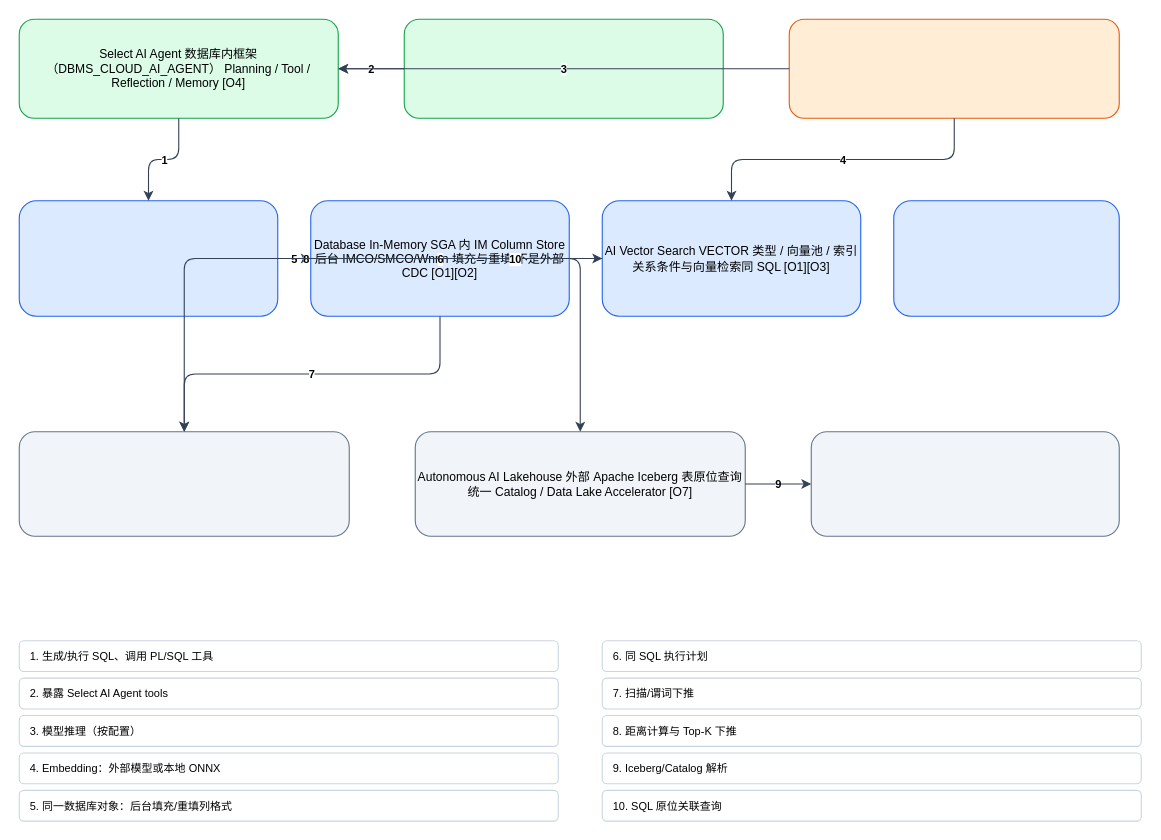
This 1161x840 diagram has some shape labels left out. Here are the shapes that lost their labels. From the top down, the centre of each, then its label:
At [563,68]: "Autonomous AI Database MCP Server 每数据库托管、多租户 MCP 服务 无需客户另建 MCP 基础设施 [O5]".
At [953,68]: "模型来源 外部 LLM Provider（可选） 或数据库内加载 ONNX Embedding [O4][O6]".
At [148,258]: "OLTP 行格式 Buffer Cache / ACID / SQL 适合点查与更新 [O1]".
At [1006,258]: "Converged Engine JSON / Graph / Spatial / Relational 统一安全与事务 [O1]".
At [183,483]: "Exadata AI Smart Scan 存储服务器执行距离计算与 Top-K 减少网络与 DB Server 处理 [O3]".
At [964,483]: "对象存储 / Iceberg 数据 OCI / AWS / Azure / GCP 开放数据保留在原位置 [O7]".
